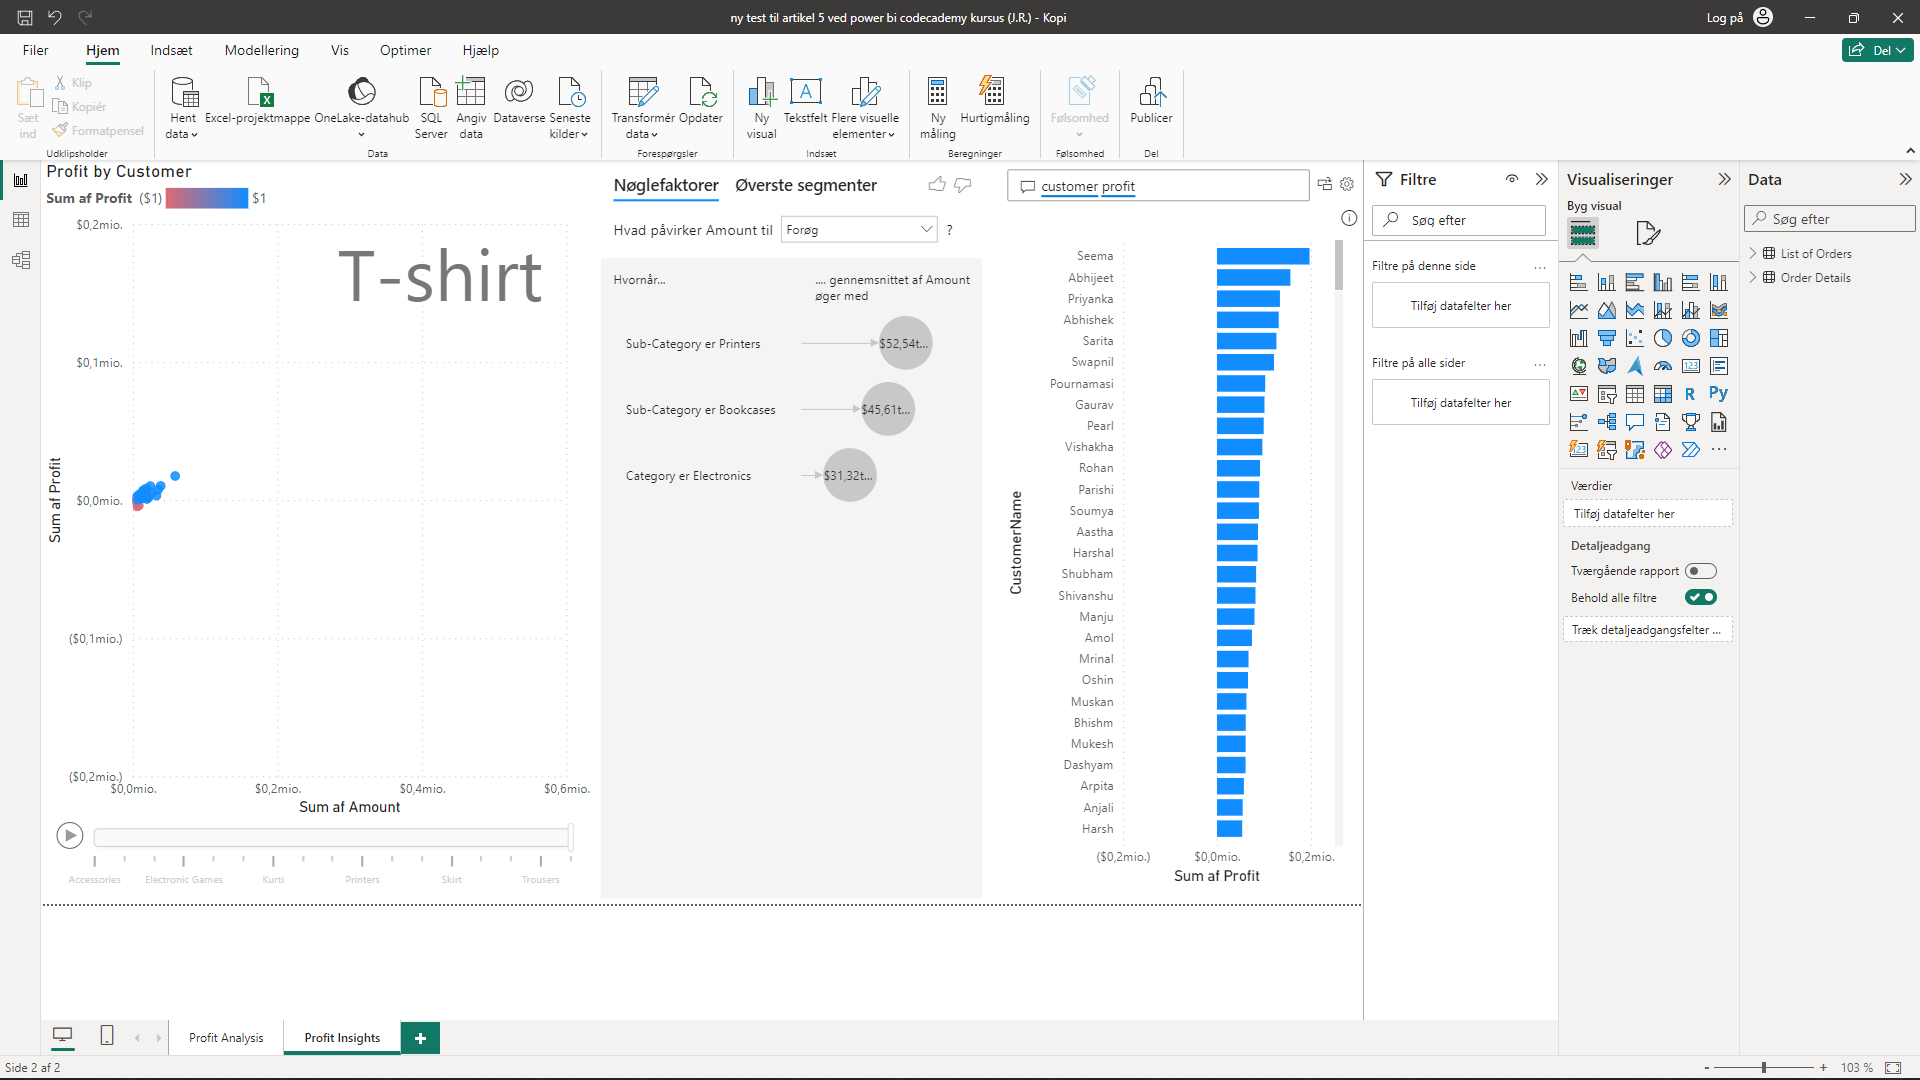

This screenshot's page, from the dashboard's own definition file:
{"tool":"powerbi","page":{"name":"Profit Insights","canvas":[1280,720],"ordinal":1},"visuals":[{"type":"scatterChart","title":"Profit by Customer","fields":{"Category":["List of Orders.CustomerName"],"X":["Sum(Order Details.Amount)"],"Y":["Sum(Order Details.Profit)"],"Play":["Order Details.Sub-Category"]},"box":[0,0,536.9,720],"z":0},{"type":"keyDriversVisual","fields":{"Target":["Order Details.Amount"],"ExplainBy":["Order Details.Category","Order Details.Sub-Category"]},"box":[536.9,0,379.3,720],"z":1000},{"type":"qnaVisual","box":[926.4,0,353.4,719.8],"z":2000}]}

Visuals, with their boxes on the page's 1280x720 design canvas (x1, y1, x2, y2). These are canvas units, not pixel positions in the 1920x1080 screenshot, which may show the page scaled, cropped or inside an application window:
"Profit by Customer" scatterChart: rect(0, 0, 537, 720)
keyDriversVisual - Order Details.Amount x Order Details.Category: rect(537, 0, 916, 720)
qnaVisual: rect(926, 0, 1280, 720)
